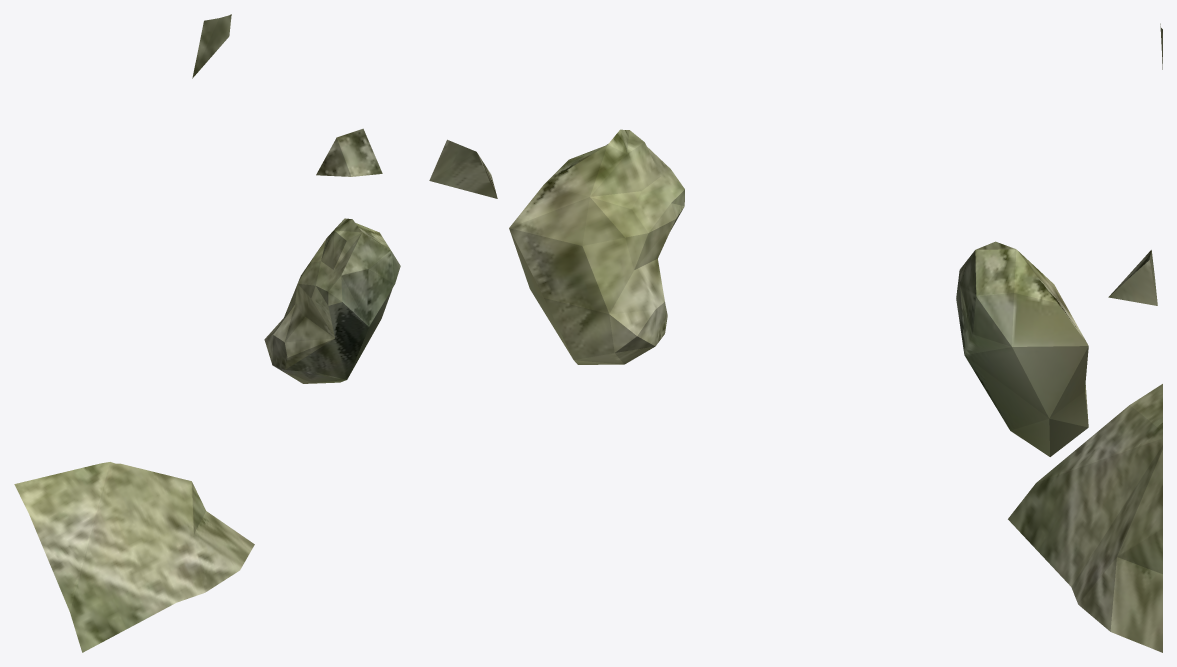
The picture shows the model from 3 angles, left to right: view 1: azimuth 30°, elevation 25°; view 2: azimuth 150°, elevation 25°; view 3: azimuth 270°, elevation 25°; orthographic projection. The views are drawn at different scales.
Bounding box in the file's own units: 2.04 × 2.95 × 0.9048.
Materials: 1 (1 with a texture image).
